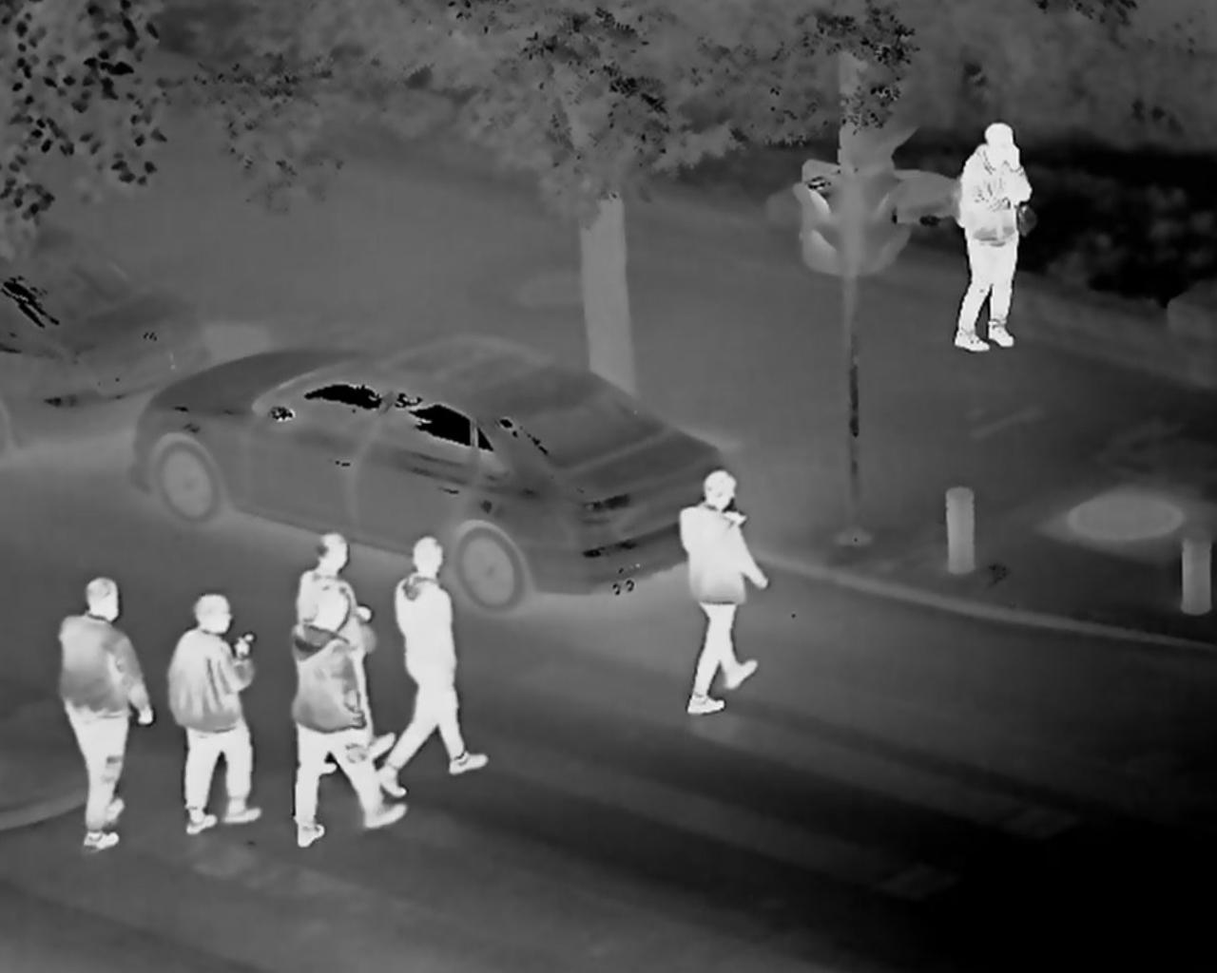person: (280, 584, 424, 857), (46, 570, 158, 858), (164, 579, 275, 860), (388, 532, 502, 797), (672, 456, 779, 717), (937, 105, 1038, 359), (292, 529, 397, 756)
